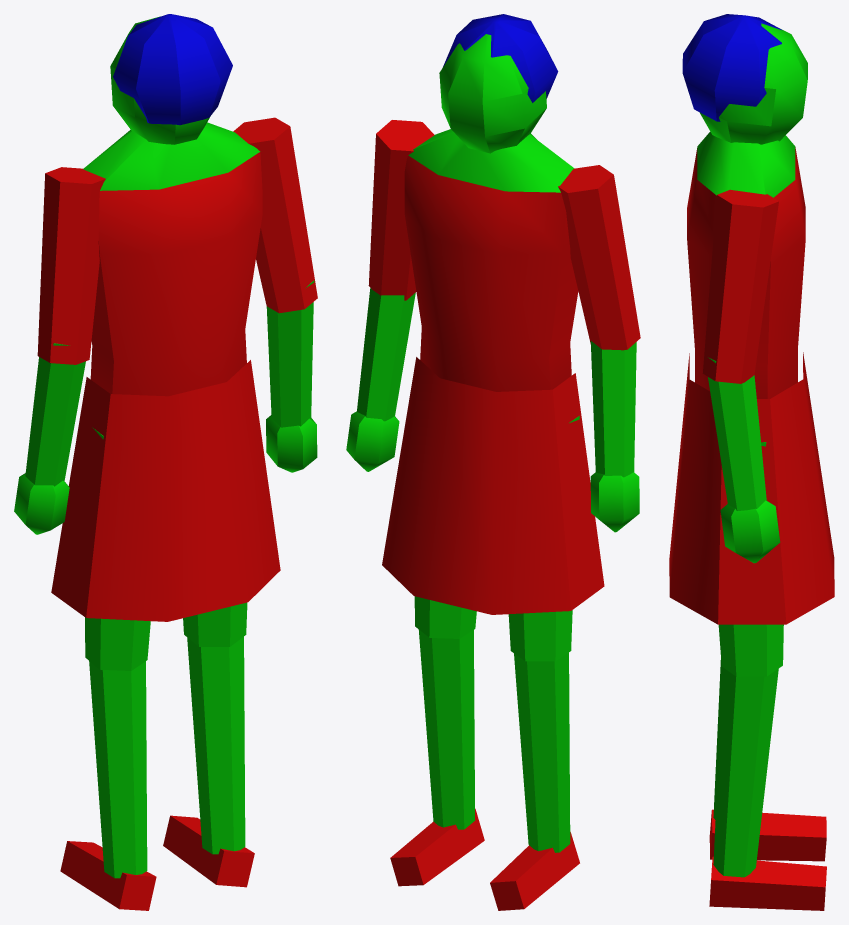
File: stand_idle.glb
The picture shows the model from 3 angles, left to right: view 1: azimuth 30°, elevation 25°; view 2: azimuth 150°, elevation 25°; view 3: azimuth 270°, elevation 25°; orthographic projection. The views are drawn at different scales.
Parts seen in each view (by area): view 1: OUT; view 2: OUT; view 3: OUT.
Boxes of the visible parts, left/top/right/bottom form: OUT: left=14, top=14, right=317, bottom=910; OUT: left=346, top=14, right=640, bottom=910; OUT: left=669, top=14, right=834, bottom=910.
Size of the model in its own units: 0.5946 by 1.71 by 0.296.
